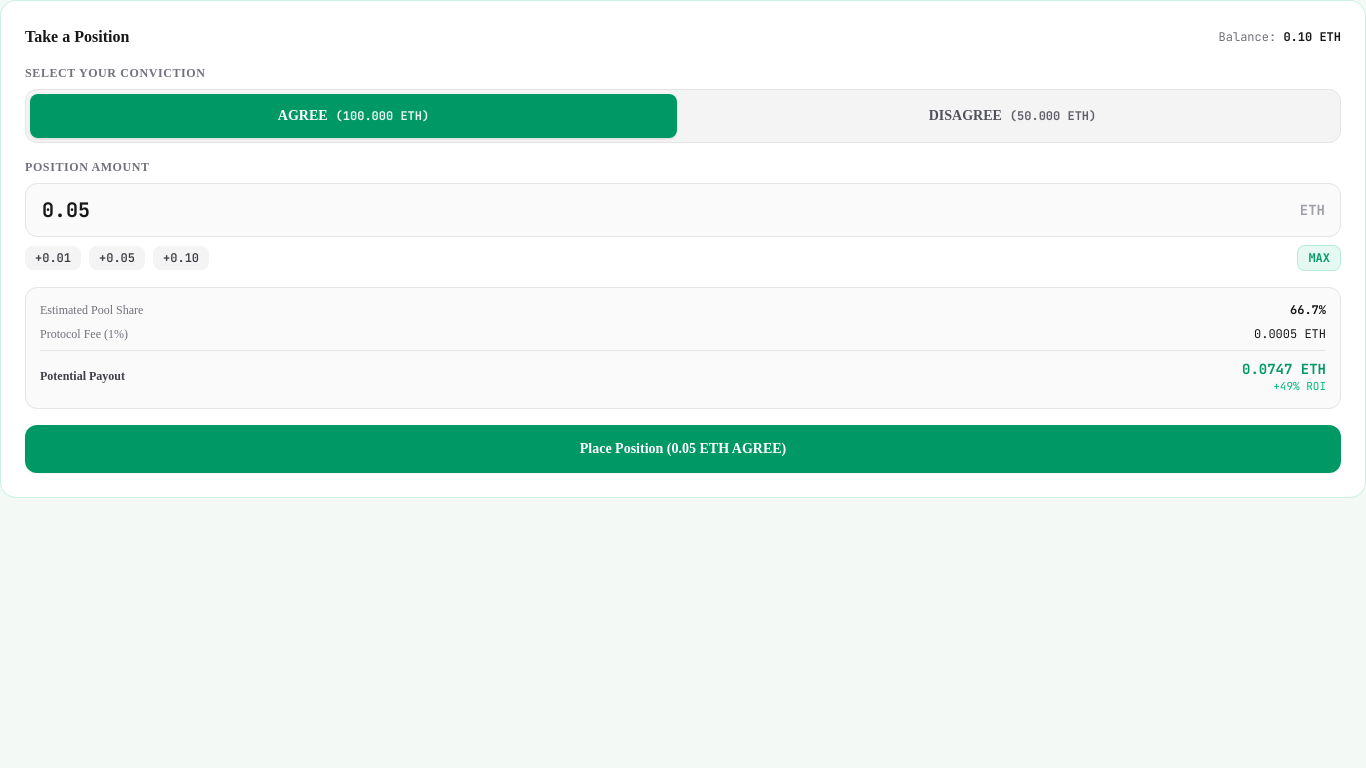
Test: PositionPanel Component › validates zero amount and insufficient balance
Replace the text in the field labelled "Position Amount" with "0": (683, 210) [25, 183, 1341, 237]
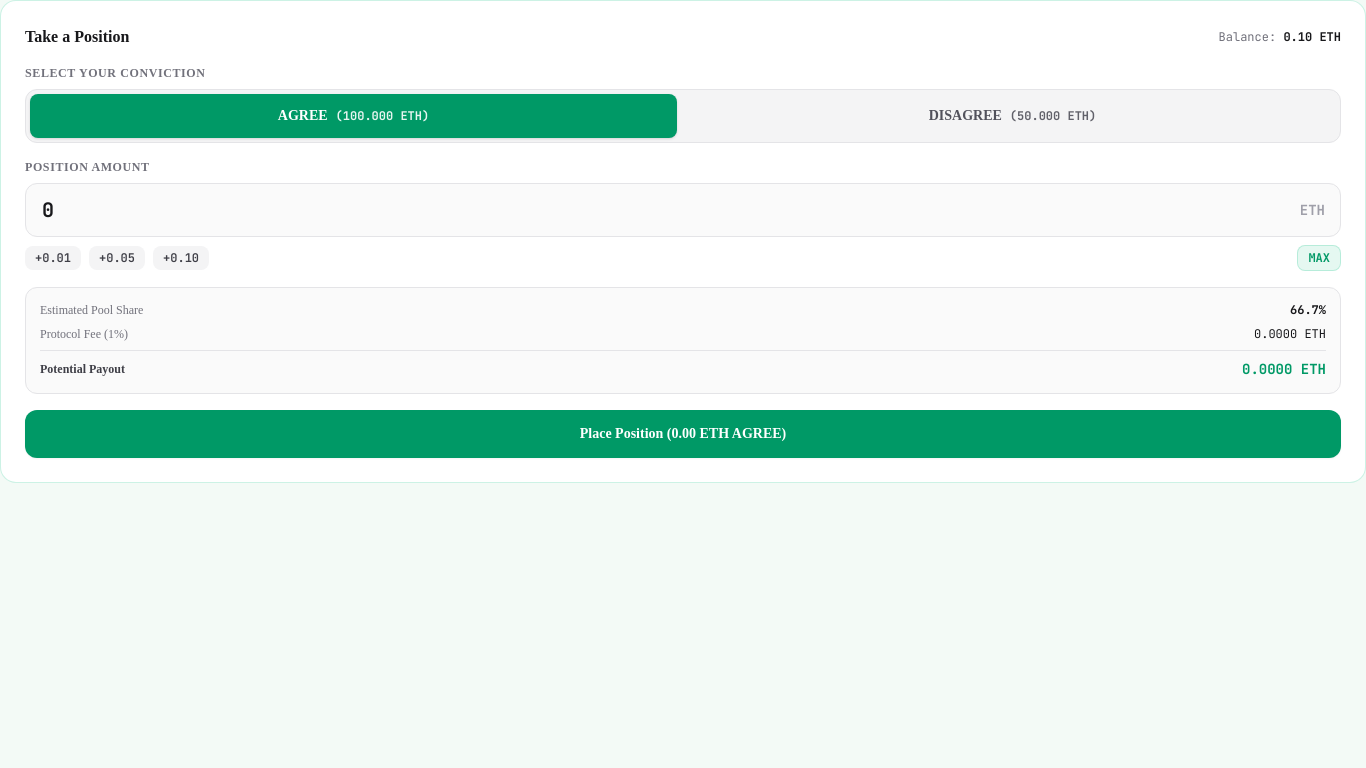
Click the button "Place Position (0.00 ETH AGREE)": (683, 434) [25, 410, 1341, 458]
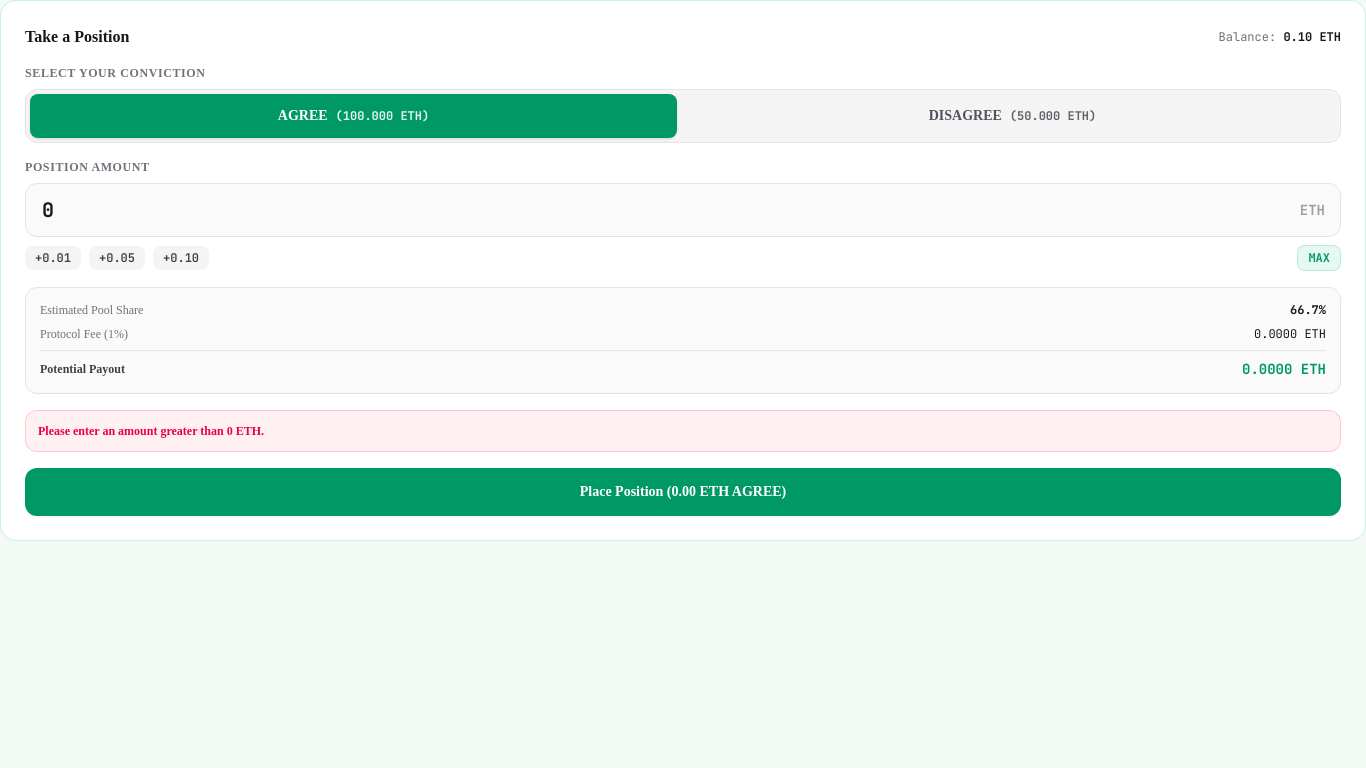
Expected: the text "Please enter an amount greater than 0 ETH." is shown, [25, 410, 1341, 452]
Replace the text in the field labelled "Position Amount" with "0.50": (683, 210) [25, 183, 1341, 237]
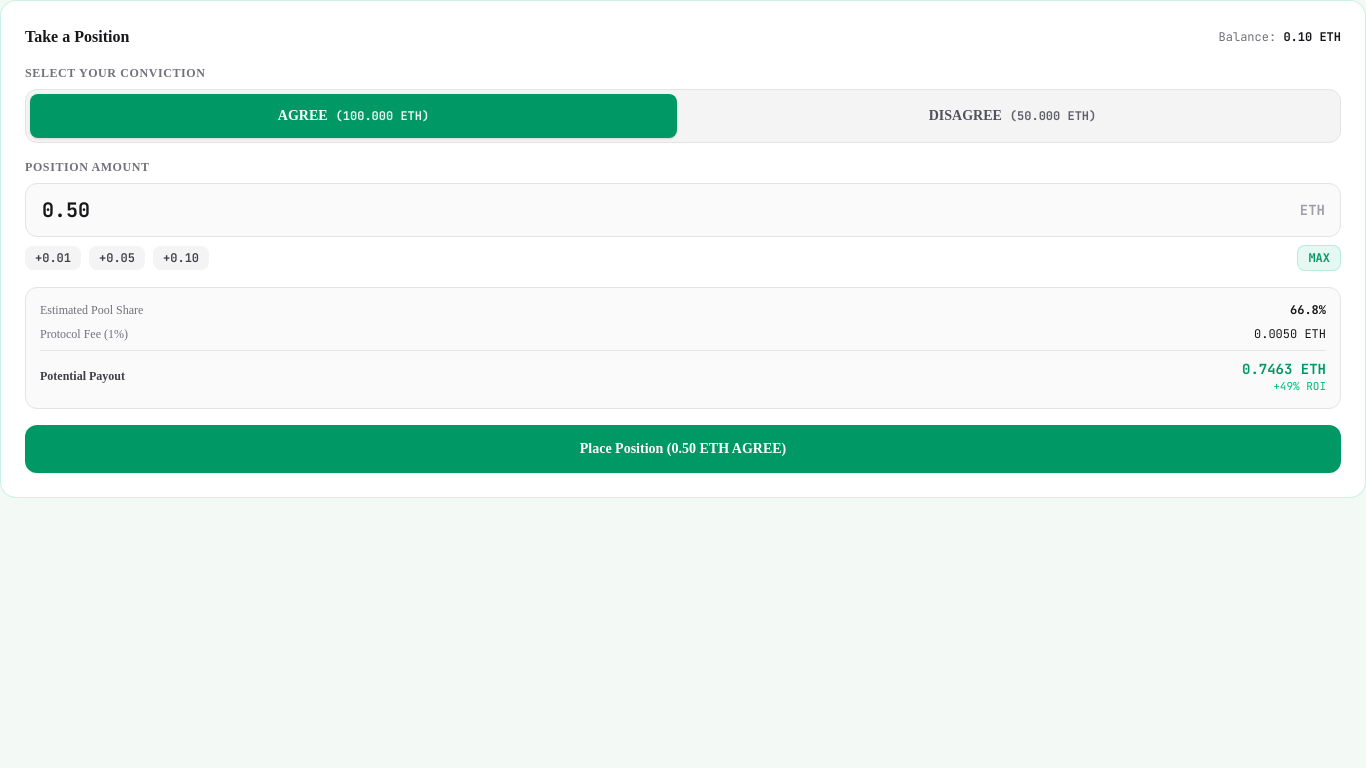
Click the button "Place Position (0.50 ETH AGREE)": (683, 449) [25, 425, 1341, 473]
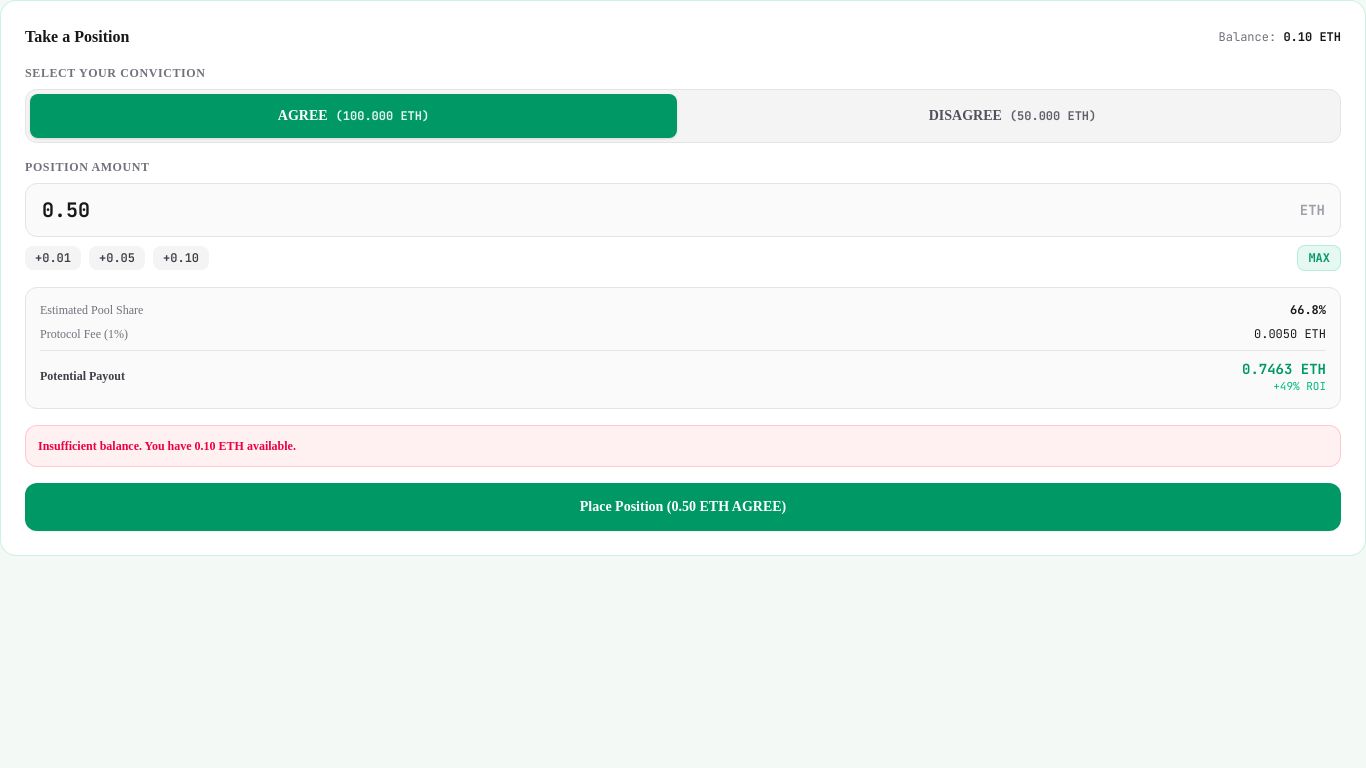
Expected: the text "Insufficient balance. You have 0.10 ETH available." is shown, [25, 425, 1341, 467]
